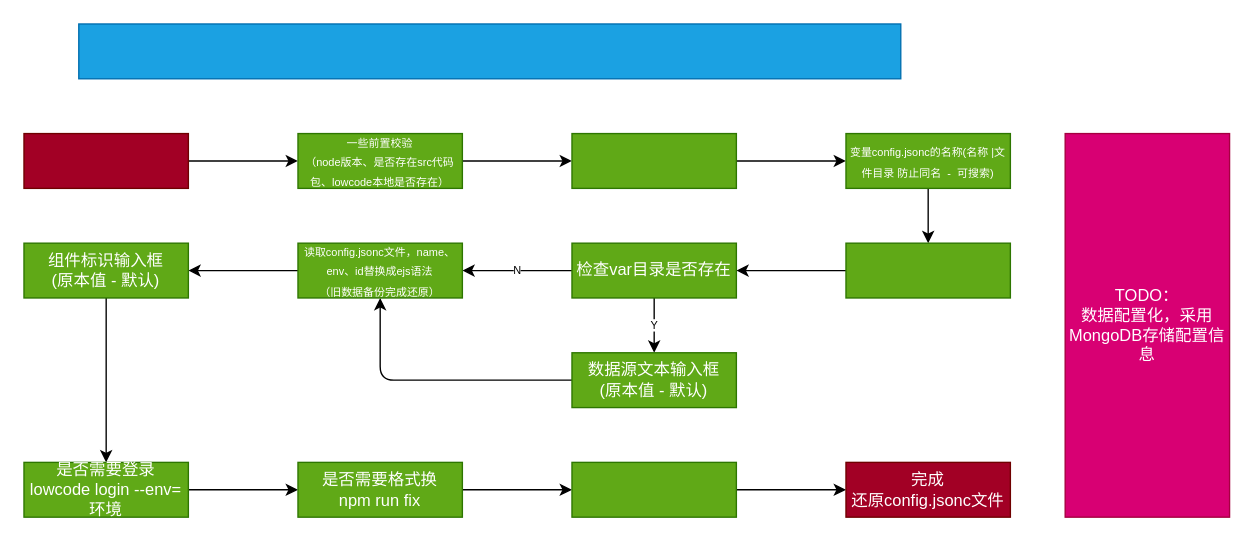
This 1254x543 diagram has some shape labels left out. The shapes that lost their labels are listed below. From the top down, each one's centre as x and y in pixels, then its label:
At (x=489, y=51): "ak-lowcode-deploy流程设计图".
At (x=105, y=160): "启动脚手架".
At (x=653, y=160): "环境选择 （test | prod）".
At (x=927, y=270): "检查node_module是否存在(不存在安装)".
At (x=653, y=489): "发布 （var不存在执行lowcode deploy，存在执行npm run depoy:环境）".
